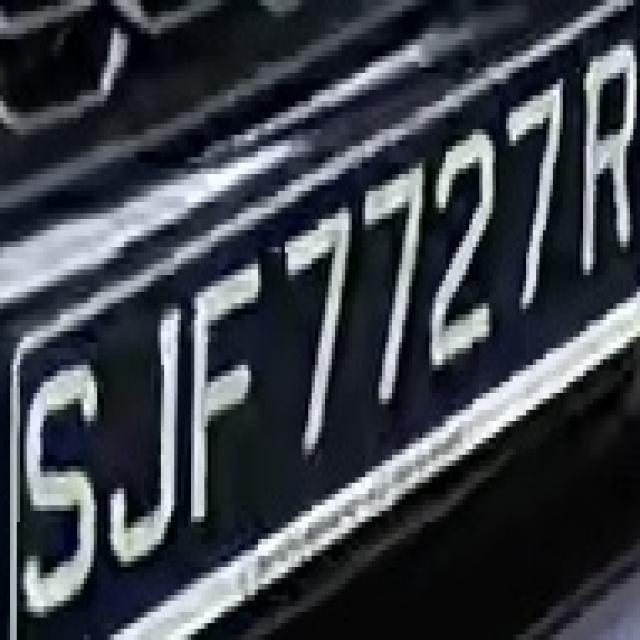2: (426, 107, 510, 376)
7: (352, 135, 429, 421), (282, 180, 358, 460), (496, 84, 570, 331)
F: (194, 247, 272, 556)
J: (100, 286, 188, 578)
R: (573, 28, 637, 303)
S: (16, 331, 100, 623)
